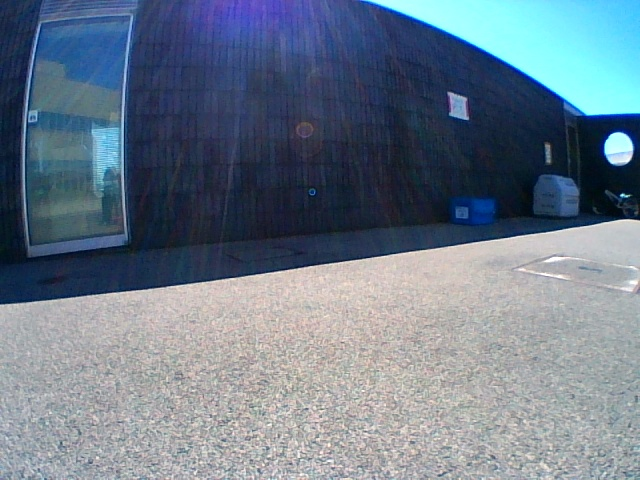blue_box: (453, 199, 494, 224)
tag: (456, 208, 467, 218)
